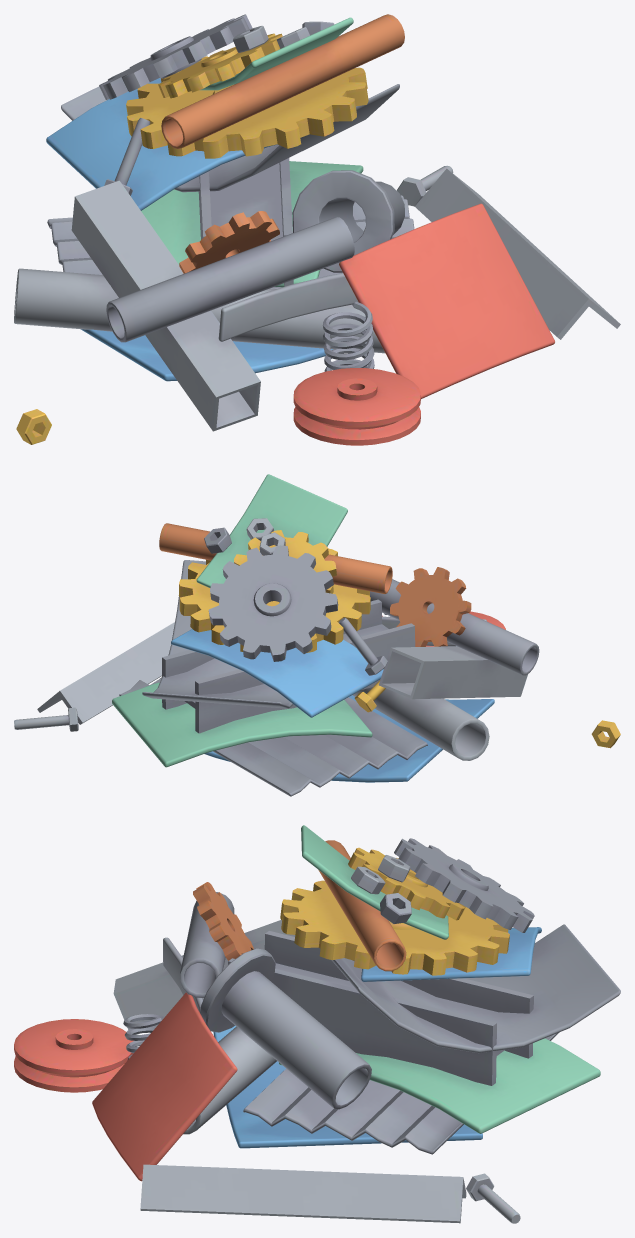
Rendered from scrap-metal-pile.glb.
3 renders of one model, top to bottom at view 1: azimuth 30°, elevation 25°; view 2: azimuth 150°, elevation 25°; view 3: azimuth 270°, elevation 25°, orthographic. The views are drawn at different scales.
Visible parts, largest first — view 1: scrap-metal-pile_body; view 2: scrap-metal-pile_body; view 3: scrap-metal-pile_body.
Boxes of the visible parts, box(x1,y1,x2,y2) form: scrap-metal-pile_body: box(14, 14, 620, 445); scrap-metal-pile_body: box(14, 474, 620, 796); scrap-metal-pile_body: box(14, 825, 620, 1223).
Bounding box in the file's own units: 0.6929 × 0.3224 × 0.6425.
Materials: 1 (1 with a texture image).
